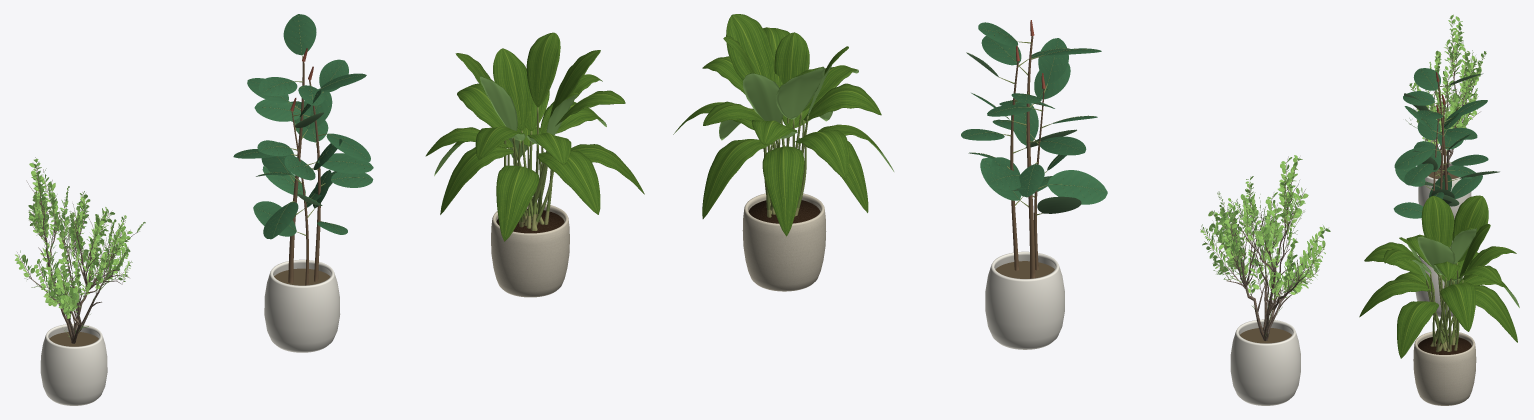
3 renders of one model, left to right at view 1: azimuth 30°, elevation 25°; view 2: azimuth 150°, elevation 25°; view 3: azimuth 270°, elevation 25°, orthographic. The views are drawn at different scales.
Visible parts, largest first — view 1: Foliage | twenty curved broad leaves with shaped undersides, Rubber tree | leaves, Floor plant | rounded ceramic planter (×2), Floor plant | detailed fine leafy shrub part 1, Planter | rounded textured ivory ceramic, Floor plant | detailed fine leafy shrub part 0, Rubber tree | wood, Petioles | twenty arcing basal stems, Rubber tree | veins, Floor plant | inset soil surface; view 2: Foliage | twenty curved broad leaves with shaped undersides, Floor plant | rounded ceramic planter (×2), Rubber tree | leaves, Floor plant | detailed fine leafy shrub part 1, Planter | rounded textured ivory ceramic, Floor plant | detailed fine leafy shrub part 0, Rubber tree | wood, Petioles | twenty arcing basal stems, Soil | inset planting surface, Rubber tree | veins, Floor plant | inset soil surface; view 3: Foliage | twenty curved broad leaves with shaped undersides, Rubber tree | leaves, Planter | rounded textured ivory ceramic, Floor plant | detailed fine leafy shrub part 1, Petioles | twenty arcing basal stems, Floor plant | rounded ceramic planter (×2), Floor plant | detailed fine leafy shrub part 0, Rubber tree | wood, Soil | inset planting surface, Rubber tree | veins, Basal crown | overlapping warm olive sheaths.
Boxes of the visible parts, box(x1,y1,x2,y2) form: Foliage | twenty curved broad leaves with shaped undersides: box(425, 32, 644, 241); Rubber tree | leaves: box(233, 14, 373, 239); Floor plant | rounded ceramic planter (×2): box(40, 259, 340, 405); Floor plant | detailed fine leafy shrub part 1: box(15, 158, 145, 318); Planter | rounded textured ivory ceramic: box(491, 202, 569, 297); Floor plant | detailed fine leafy shrub part 0: box(17, 157, 139, 343); Rubber tree | wood: box(288, 55, 327, 285); Petioles | twenty arcing basal stems: box(504, 107, 553, 222); Rubber tree | veins: box(237, 15, 371, 233); Floor plant | inset soil surface: box(274, 268, 330, 285); Foliage | twenty curved broad leaves with shaped undersides: box(673, 14, 893, 236); Floor plant | rounded ceramic planter (×2): box(985, 251, 1300, 405); Rubber tree | leaves: box(961, 22, 1107, 213); Floor plant | detailed fine leafy shrub part 1: box(1200, 155, 1330, 300); Planter | rounded textured ivory ceramic: box(742, 193, 826, 291); Floor plant | detailed fine leafy shrub part 0: box(1202, 156, 1328, 340); Rubber tree | wood: box(999, 36, 1051, 278); Petioles | twenty arcing basal stems: box(763, 112, 808, 209); Soil | inset planting surface: box(748, 200, 820, 223); Rubber tree | veins: box(962, 25, 1104, 198); Floor plant | inset soil surface: box(995, 261, 1054, 278); Foliage | twenty curved broad leaves with shaped undersides: box(1359, 195, 1519, 358); Rubber tree | leaves: box(1393, 68, 1499, 218); Planter | rounded textured ivory ceramic: box(1413, 331, 1476, 405); Floor plant | detailed fine leafy shrub part 1: box(1409, 14, 1486, 150); Petioles | twenty arcing basal stems: box(1425, 262, 1463, 344); Floor plant | rounded ceramic planter (×2): box(1415, 161, 1471, 316); Floor plant | detailed fine leafy shrub part 0: box(1411, 17, 1484, 175); Rubber tree | wood: box(1424, 82, 1459, 191); Soil | inset planting surface: box(1418, 335, 1471, 354); Rubber tree | veins: box(1398, 69, 1493, 215); Basal crown | overlapping warm olive sheaths: box(1430, 333, 1457, 352).
Bounding box in the file's own units: 4.25 × 2.05 × 1.23.
Materials: 17 (6 with a texture image).
